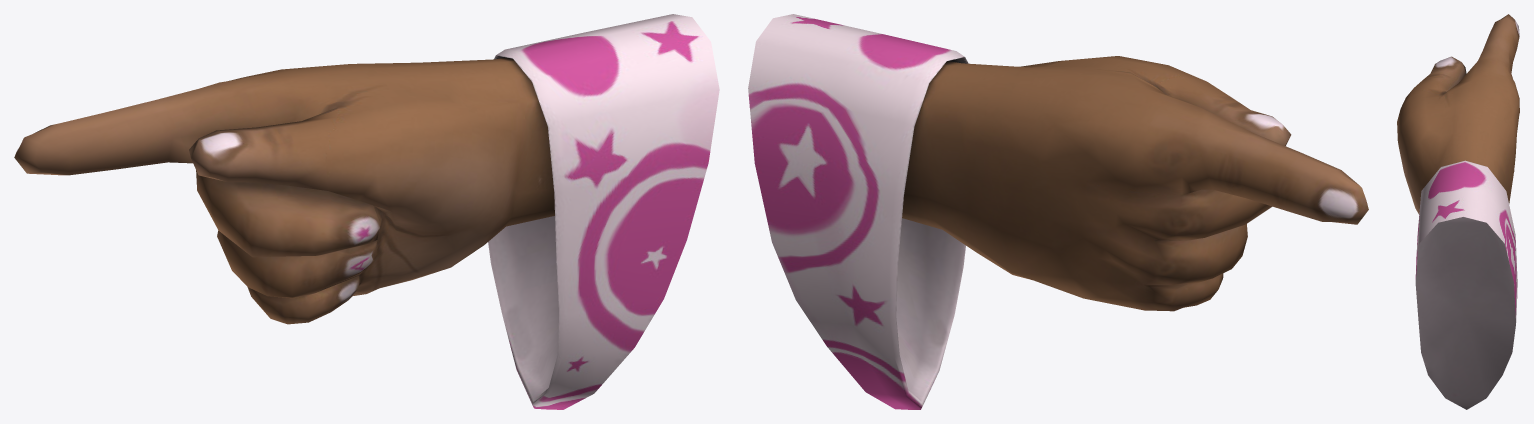
File: avatar2-hand.obj
3 views of the same model, side by side, from view 1: azimuth 30°, elevation 25°; view 2: azimuth 150°, elevation 25°; view 3: azimuth 270°, elevation 25° (orthographic). The views are drawn at different scales.
Parts seen in each view (by area): view 1: hand; view 2: hand; view 3: hand.
Part boxes in pixels (x1=…): hand: x1=14, y1=14, x2=719, y2=409; hand: x1=748, y1=14, x2=1368, y2=409; hand: x1=1397, y1=14, x2=1519, y2=409.
Bounding box in the file's own units: 0.4097 × 0.2393 × 0.1064.
1 material, 1 textured.
